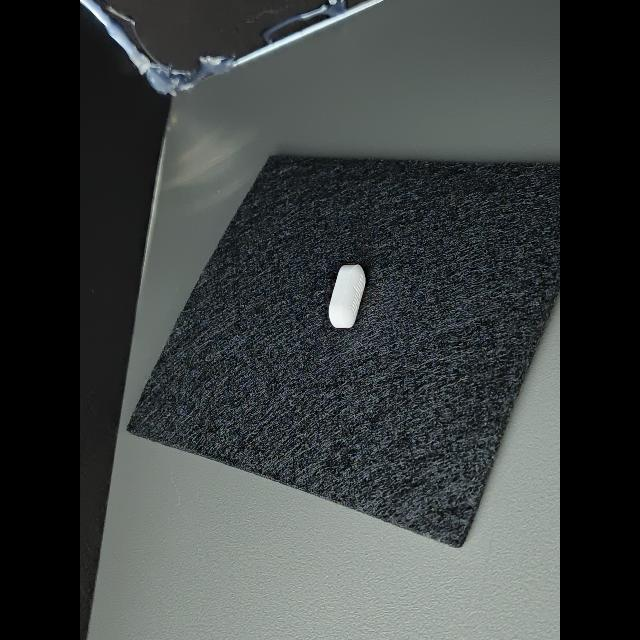Intact Pill: (329, 265, 366, 328)
